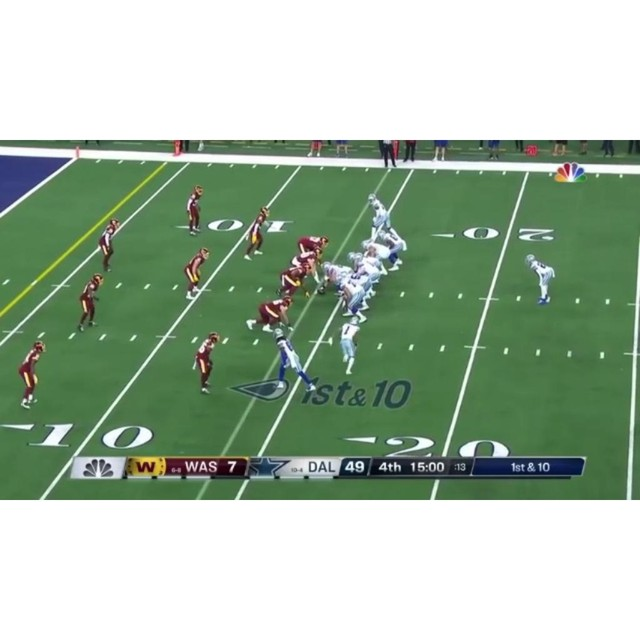american-football-player: (272, 328, 318, 393), (17, 342, 46, 408), (246, 296, 294, 333), (193, 333, 220, 394), (334, 276, 368, 322), (525, 254, 555, 305), (77, 274, 103, 331), (244, 207, 270, 261), (339, 314, 361, 374), (184, 247, 209, 299), (291, 248, 324, 287), (277, 263, 312, 299), (379, 226, 407, 269), (362, 239, 393, 276), (99, 218, 120, 272), (367, 193, 391, 237), (186, 184, 204, 235), (297, 235, 329, 261)
